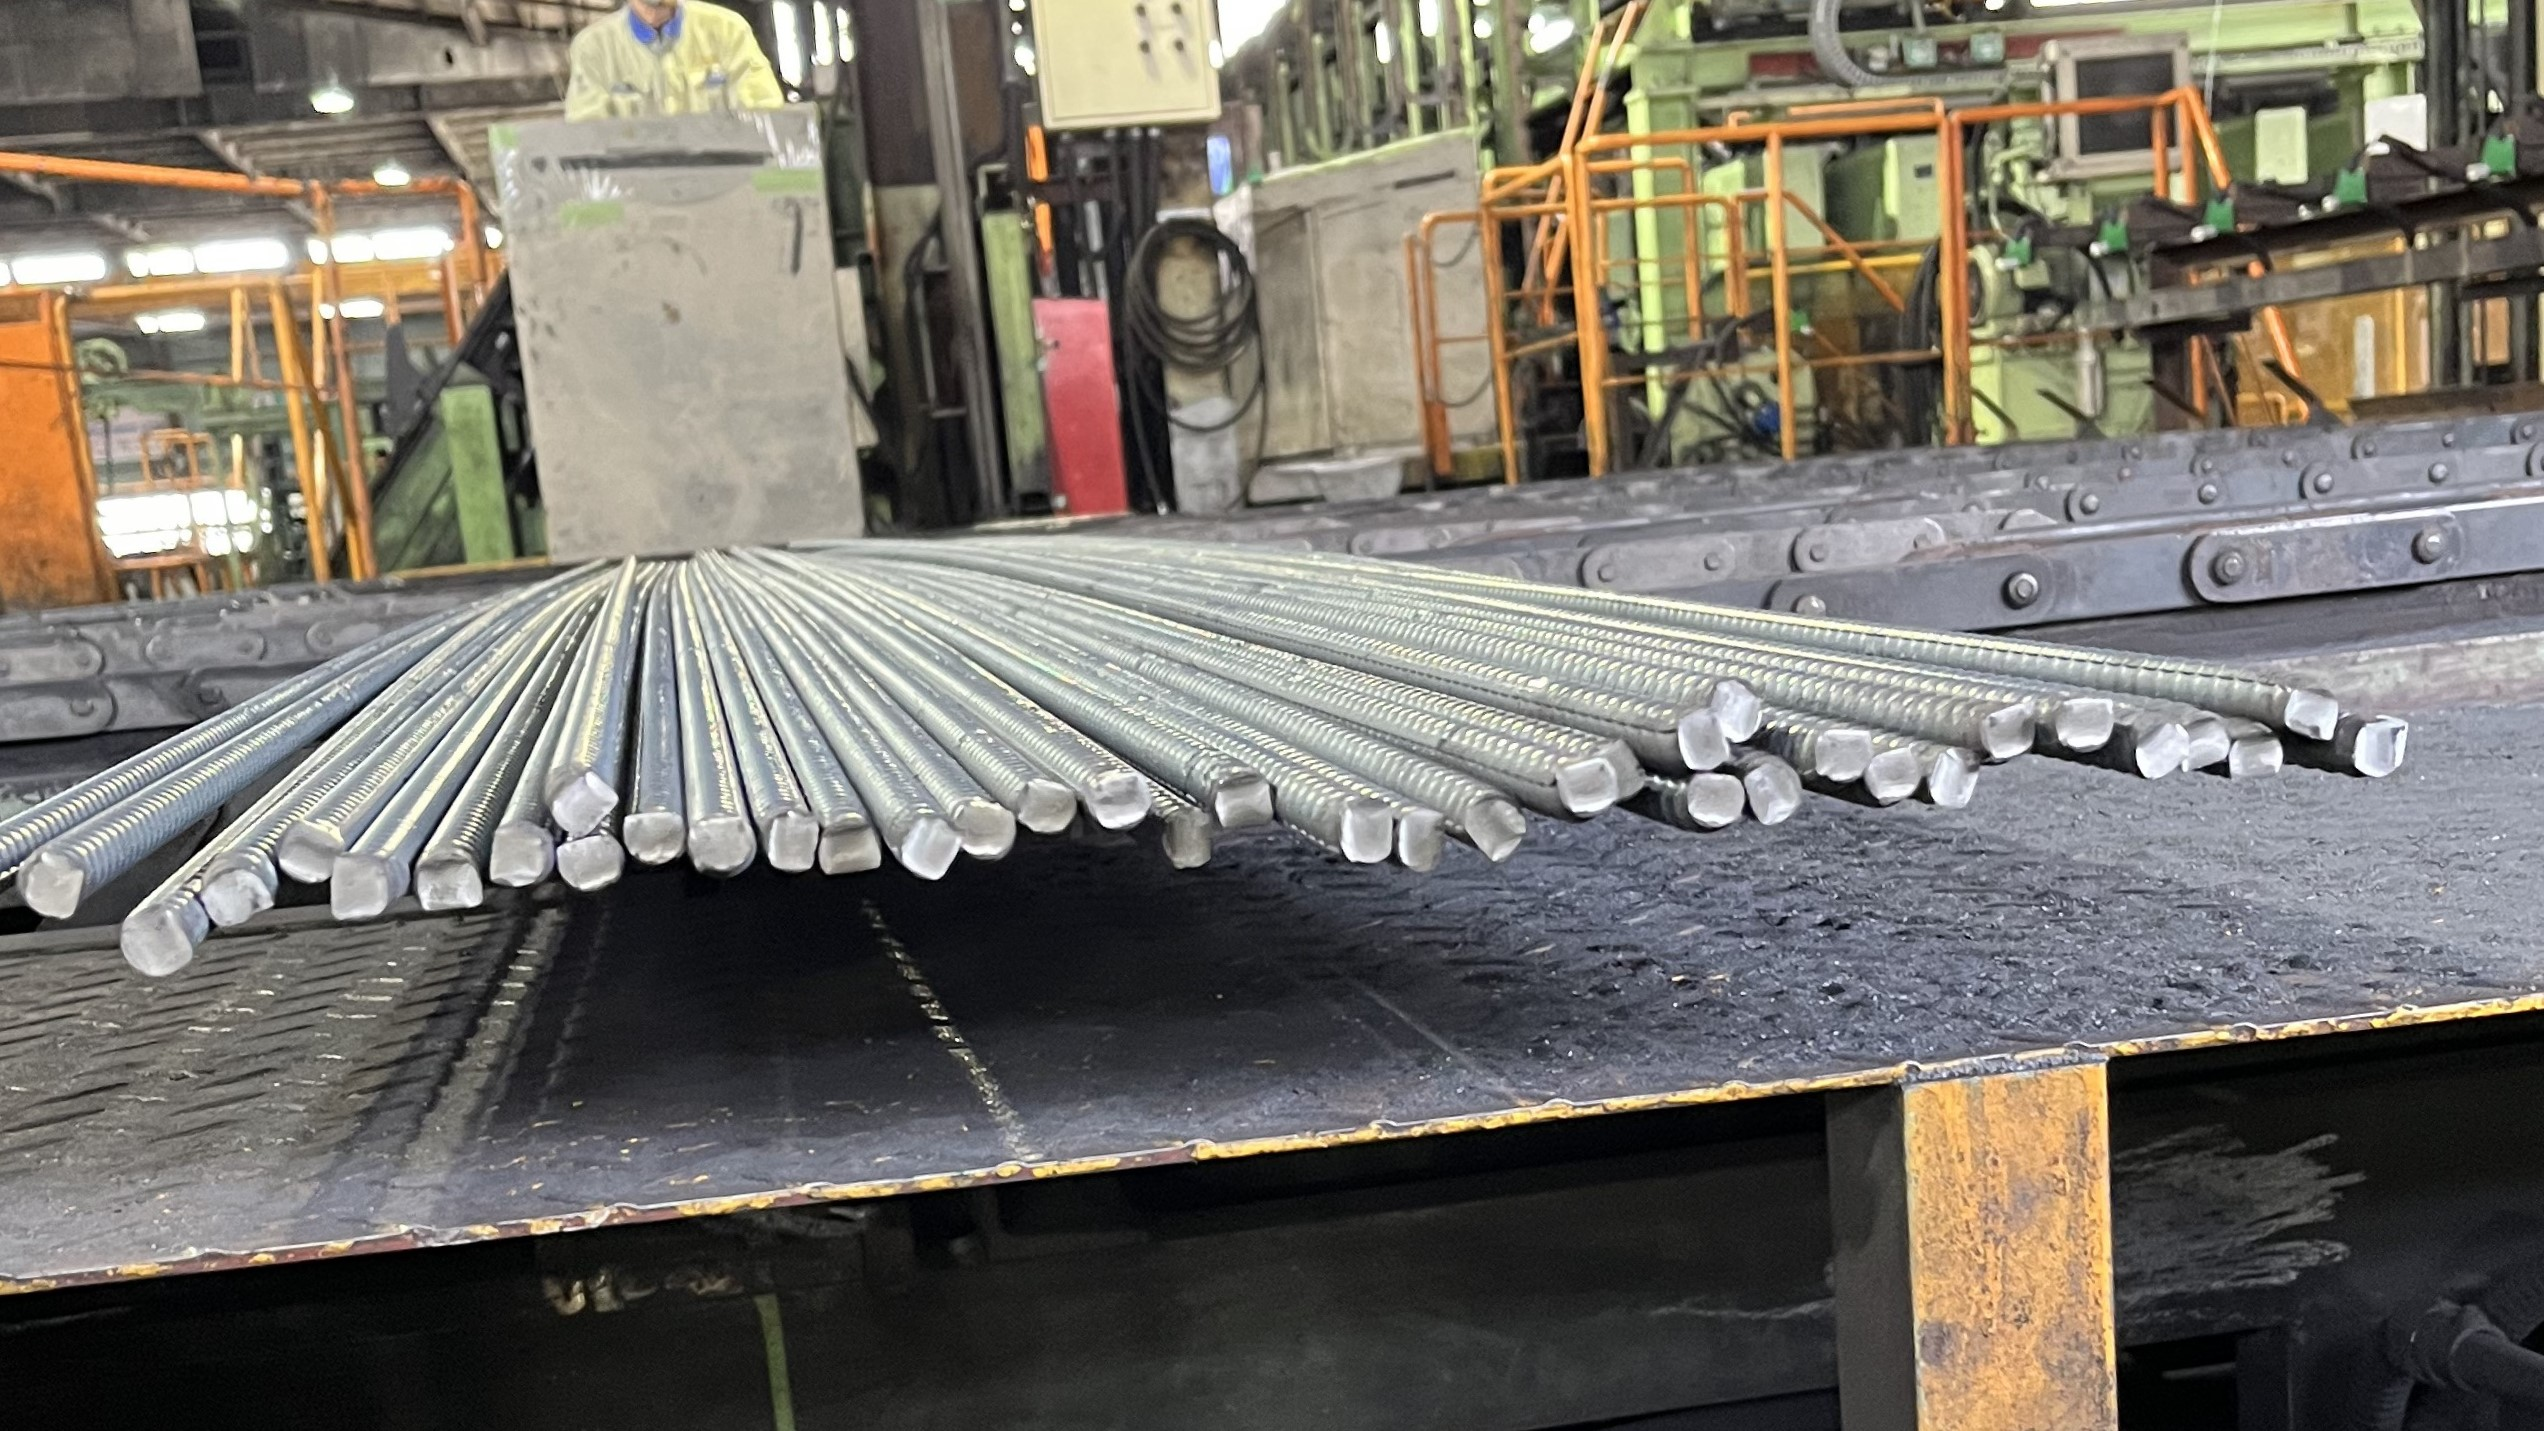rod: (115, 903, 196, 978), (14, 846, 86, 921), (197, 867, 278, 930), (273, 818, 348, 882), (327, 847, 391, 923), (1462, 795, 1531, 865), (487, 819, 556, 888), (896, 812, 963, 882), (687, 818, 757, 881), (412, 854, 484, 914), (1015, 772, 1080, 837), (1553, 755, 1621, 816), (556, 833, 626, 893), (1707, 676, 1766, 746), (952, 800, 1019, 861), (1089, 771, 1153, 832), (1744, 762, 1803, 828), (1976, 701, 2039, 762), (818, 818, 884, 875), (1213, 771, 1279, 828), (1925, 744, 1983, 811), (2053, 694, 2114, 755), (1338, 798, 1394, 865), (1681, 772, 1747, 828), (1595, 736, 1649, 804), (1398, 805, 1450, 875), (1863, 746, 1924, 805), (764, 809, 819, 874), (1676, 708, 1732, 772), (620, 811, 687, 865), (1812, 727, 1875, 783), (2280, 687, 2343, 743), (2350, 715, 2402, 781), (2133, 722, 2189, 783), (2228, 727, 2285, 783), (1162, 807, 1214, 868), (2182, 715, 2229, 776)
